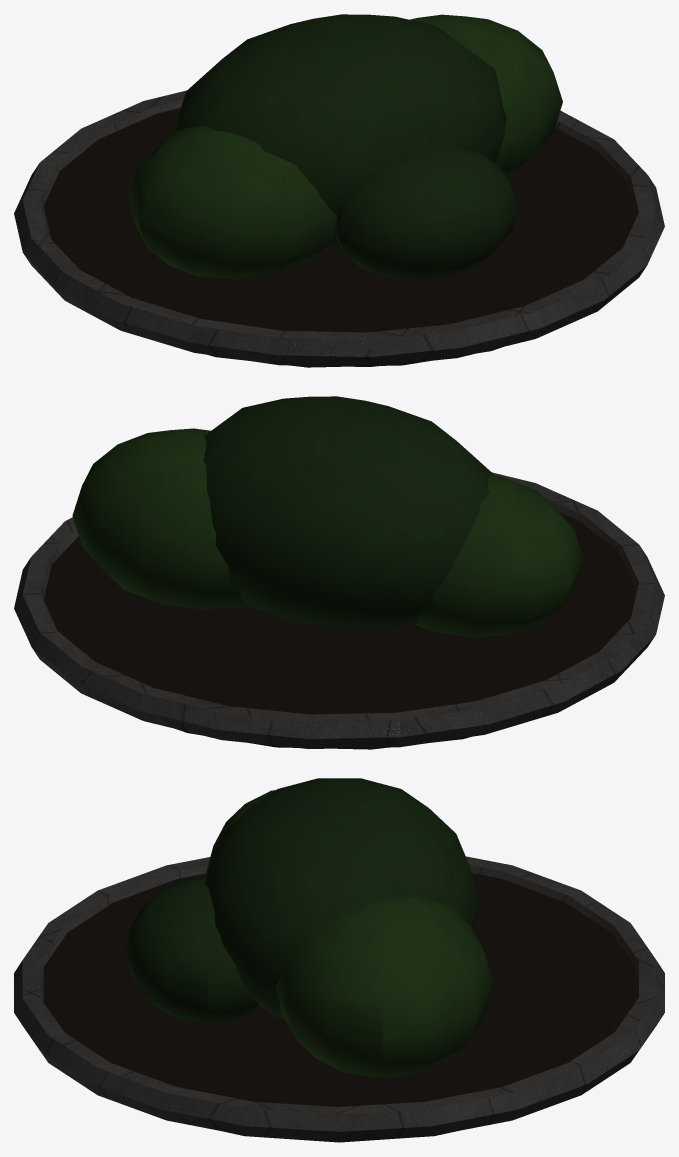
The model's file is fac_bush.glb.
3 renders of one model, top to bottom at view 1: azimuth 30°, elevation 25°; view 2: azimuth 150°, elevation 25°; view 3: azimuth 270°, elevation 25°, orthographic.
Visible parts, largest first — view 1: FAC_BUSH; view 2: FAC_BUSH; view 3: FAC_BUSH.
Boxes of the visible parts, left/top/right/bottom form: FAC_BUSH: left=14, top=14, right=664, bottom=367; FAC_BUSH: left=14, top=396, right=664, bottom=749; FAC_BUSH: left=14, top=778, right=664, bottom=1142.
Bounding box in the file's own units: 3 × 1.06 × 2.97.
4 materials, 4 textured.
